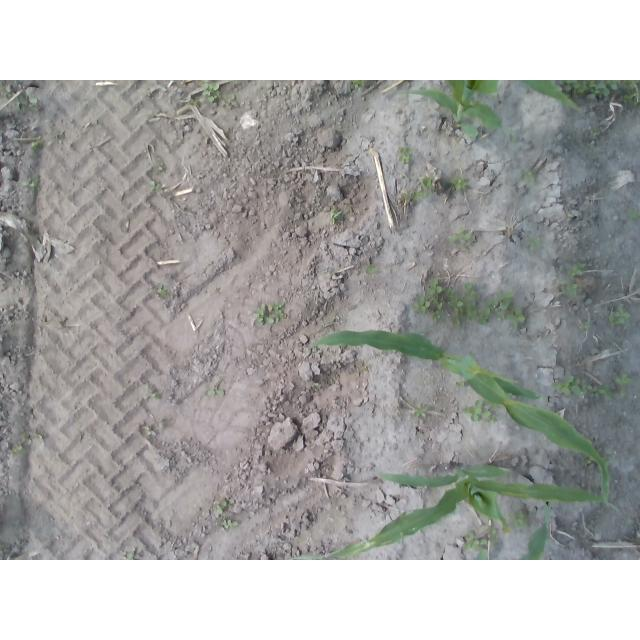Maize: (306, 329, 614, 511), (286, 465, 622, 560), (397, 80, 583, 148), (442, 504, 553, 561)
Weeds: (549, 81, 640, 108), (446, 283, 479, 325), (479, 290, 514, 326), (461, 397, 499, 423), (253, 302, 287, 327), (550, 376, 582, 397), (426, 279, 445, 310), (196, 80, 222, 102), (449, 227, 473, 250), (609, 303, 631, 326), (463, 532, 488, 551), (506, 307, 526, 330), (555, 278, 577, 298), (14, 96, 38, 113), (523, 234, 542, 254), (412, 294, 431, 314), (400, 189, 428, 202), (511, 511, 530, 530), (518, 168, 538, 185), (448, 175, 469, 191), (592, 383, 613, 399), (23, 174, 41, 192), (396, 147, 415, 164), (19, 432, 43, 444), (567, 263, 586, 278), (220, 94, 236, 110), (418, 175, 435, 190), (216, 500, 233, 515), (329, 205, 343, 223), (613, 372, 633, 384), (156, 282, 171, 298), (489, 525, 499, 548), (205, 387, 226, 397), (149, 181, 164, 195), (413, 404, 427, 418), (582, 378, 593, 395), (219, 519, 237, 529), (31, 138, 44, 151), (365, 262, 379, 274), (12, 444, 27, 455), (601, 454, 614, 466), (587, 128, 602, 138), (629, 210, 640, 221), (353, 80, 366, 89), (431, 311, 442, 321), (154, 163, 165, 173), (148, 391, 160, 400), (618, 387, 628, 397), (579, 322, 590, 331), (586, 456, 595, 465), (189, 99, 200, 106), (364, 364, 373, 372), (455, 381, 465, 388), (128, 553, 137, 560), (566, 213, 574, 220)
